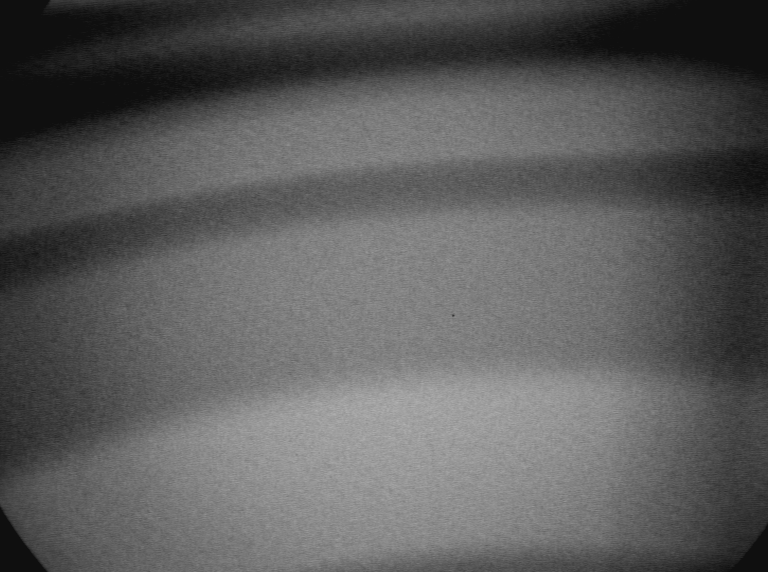defect: (636, 8, 761, 567)
